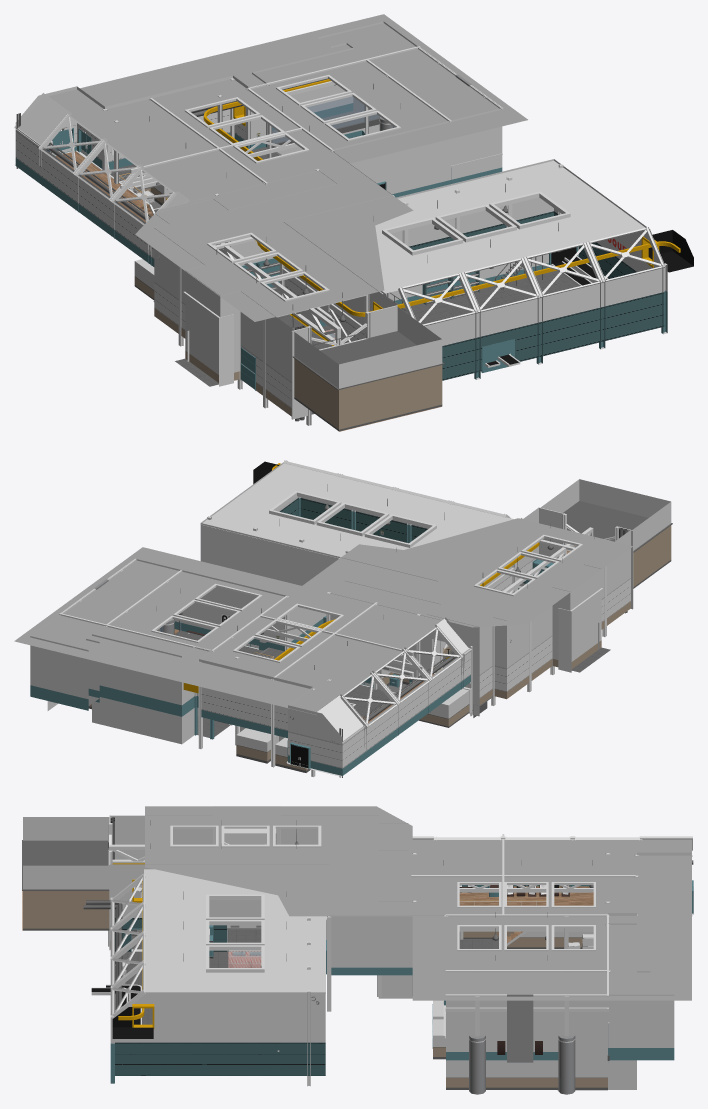
File: Factory3.glb
3 views of the same model, one above another, from view 1: azimuth 30°, elevation 25°; view 2: azimuth 150°, elevation 25°; view 3: azimuth 270°, elevation 25° (orthographic). The views are drawn at different scales.
Parts seen in each view (by area): view 1: Plane.011, Plane.014, Plane.025, Plane.023, Plane.018, Plane, Floorplan.003, Skylight.001, skylight.004, Skylight, Plane.024, Cube.061 (+20 smaller); view 2: Plane.011, Plane.025, Plane.018, Plane.019, Plane.014, Floorplan.002, Plane.023, Floorplan.003, Plane, Skylight, skylight.004, Cube.038 (+14 smaller); view 3: Plane.011, Plane.014, Plane.025, Plane, Plane.018, Plane.023, Plane.019, Skylight.001, Plane.016, skylight.004, Cube.064, Floorplan.010 (+24 smaller).
Boxes of the visible parts, x1,y1,x2,y2 form: Plane.011: (48,14,527,321); Plane.014: (380,159,664,380); Plane.025: (375,161,645,293); Plane.023: (294,307,442,431); Plane.018: (154,151,392,416); Plane: (332,47,502,197); Floorplan.003: (15,127,154,266); Skylight.001: (398,227,665,326); skylight.004: (382,191,570,255); Skylight: (38,114,176,225); Plane.024: (322,266,594,330); Cube.061: (203,79,680,316); Plane.011: (14,518,632,715); Plane.025: (200,463,513,558); Plane.018: (288,530,630,705); Plane.019: (30,614,210,744); Plane.014: (200,460,525,585); Floorplan.002: (199,649,342,775); Plane.023: (541,479,671,588); Floorplan.003: (342,648,470,775); Plane: (62,559,286,651); Skylight: (340,626,463,728); skylight.004: (269,491,436,547); Cube.038: (330,581,479,716); Plane.011: (145,806,691,1000); Plane.014: (112,867,325,1075); Plane.025: (144,869,325,993); Plane: (446,1000,607,1089); Plane.018: (110,806,444,975); Plane.023: (23,817,109,930); Plane.019: (608,923,674,1089); Skylight.001: (110,874,145,1016); Plane.016: (22,840,109,890); skylight.004: (206,894,264,972); Cube.064: (507,994,533,1062); Floorplan.010: (459,886,593,905).
Bounding box in the file's own units: 57.28 × 13.87 × 80.84.
35 materials, 14 textured.
